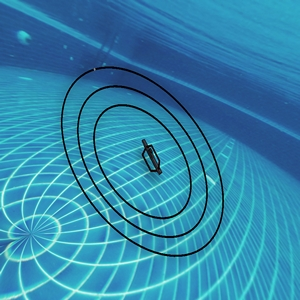submarine: (140, 141, 158, 173)
